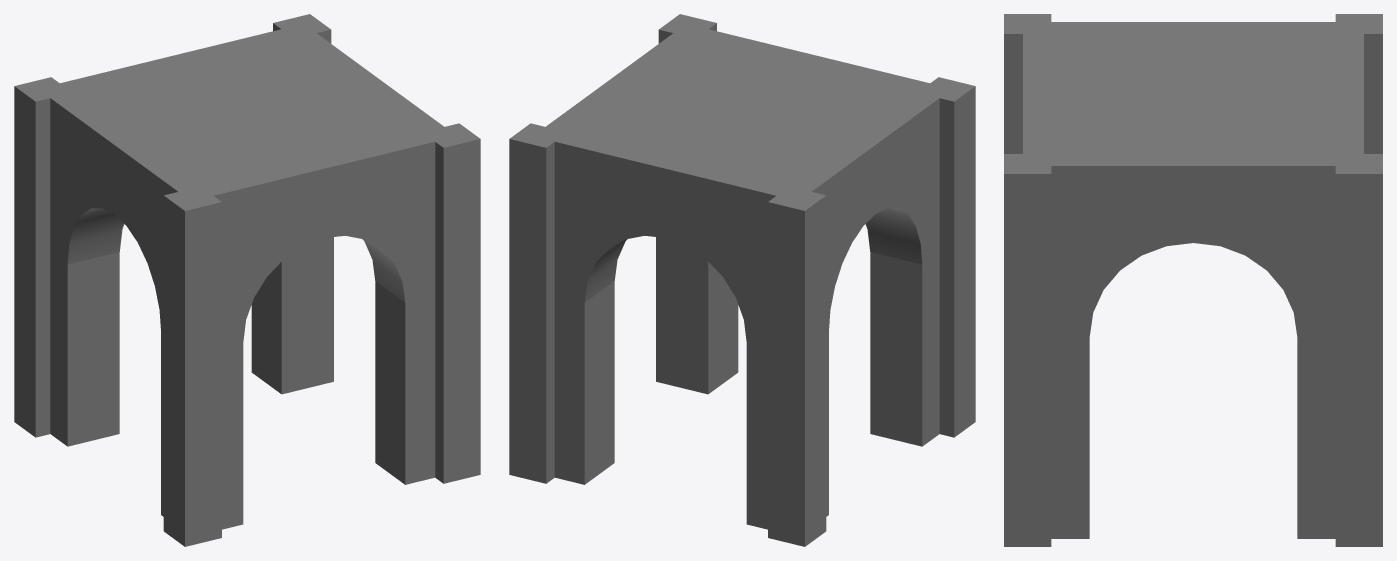
Rendered from towerSquareArch.glb.
The picture shows the model from 3 angles, left to right: view 1: azimuth 30°, elevation 25°; view 2: azimuth 150°, elevation 25°; view 3: azimuth 270°, elevation 25°; orthographic projection. The views are drawn at different scales.
Visible parts, largest first — view 1: mesh_id4, mesh_id5; view 2: mesh_id4, mesh_id5; view 3: mesh_id4, mesh_id5.
Boxes of the visible parts, left/top/right/bottom form: mesh_id4: left=14, top=14, right=480, bottom=546; mesh_id5: left=50, top=44, right=435, bottom=528; mesh_id4: left=509, top=14, right=975, bottom=546; mesh_id5: left=555, top=41, right=939, bottom=528; mesh_id4: left=1004, top=14, right=1382, bottom=546; mesh_id5: left=1051, top=34, right=1335, bottom=538.
Size of the model in its own units: 0.4714 by 0.512 by 0.4714.
Materials: 2 (2 with a texture image).
